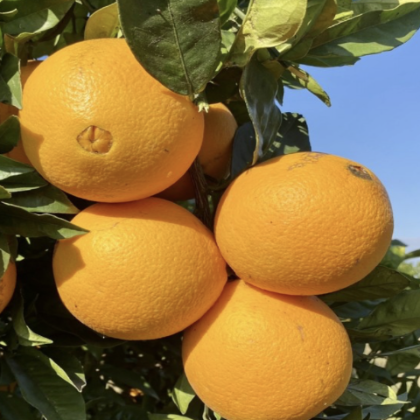orange: (11, 31, 225, 204), (156, 268, 374, 413), (38, 186, 232, 337), (214, 154, 414, 293)
